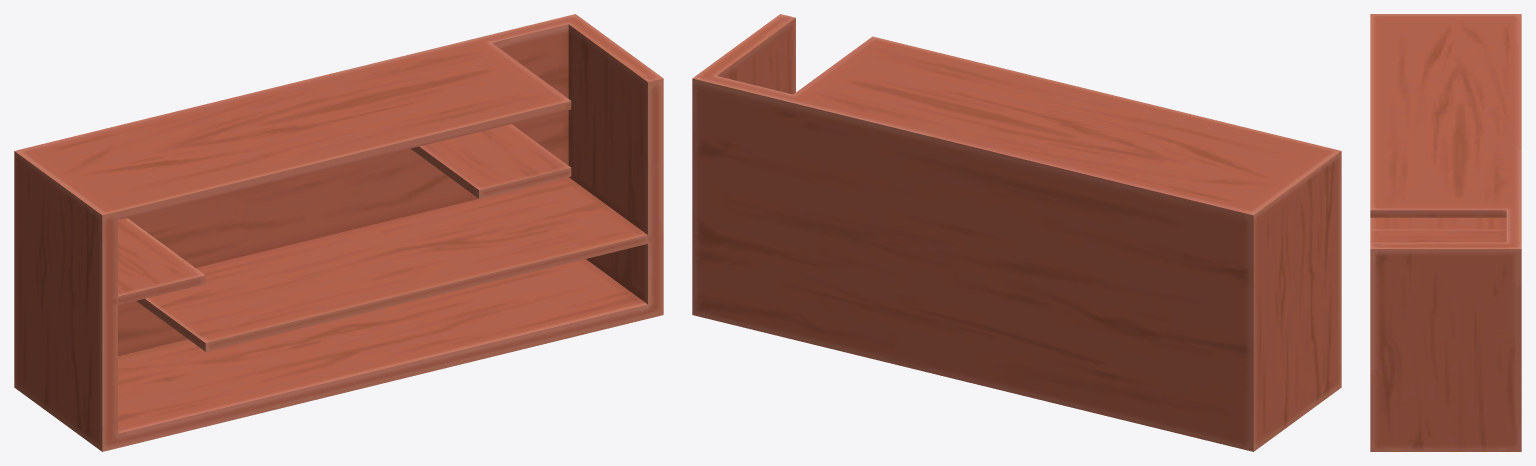
The model's file is Shelf.fbx.
3 views of the same model, side by side, from view 1: azimuth 30°, elevation 25°; view 2: azimuth 150°, elevation 25°; view 3: azimuth 270°, elevation 25° (orthographic). The views are drawn at different scales.
Visible parts, largest first — view 1: Cube.002; view 2: Cube.002; view 3: Cube.002.
Boxes of the visible parts, x1,y1,x2,y2 form: Cube.002: (14,14,663,451); Cube.002: (692,14,1341,451); Cube.002: (1370,14,1521,451).
Size of the model in its own units: 6948 by 2798 by 1888.
